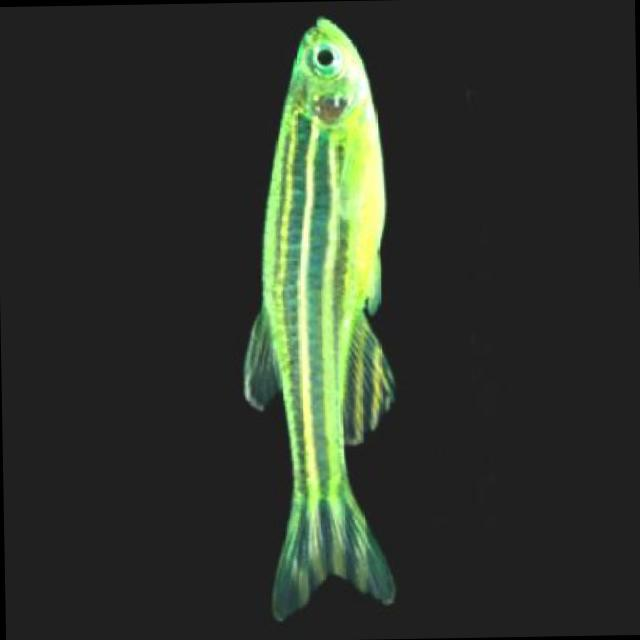ZebraFish: (234, 19, 404, 624)
